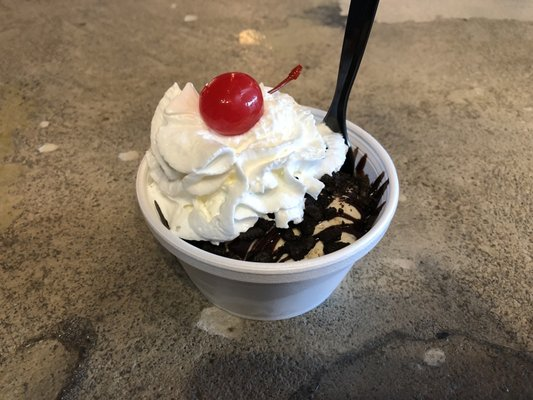sushi: (132, 94, 401, 321)
